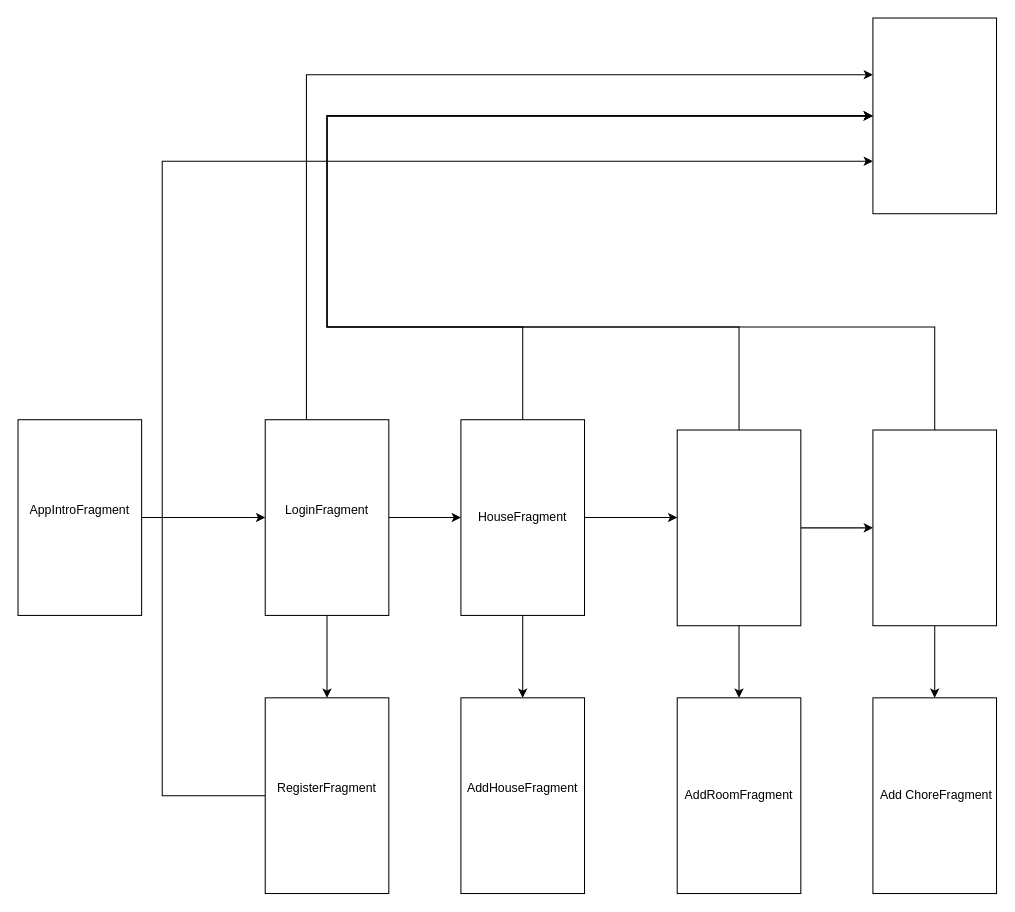
This 1015x912 diagram has some shape labels left out. Each missing label, with the centre of its shape:
"ChoreFragment" goes at point (934, 527).
"Room Fragment" goes at point (738, 527).
"Settings Fragment Overlay" goes at point (934, 115).
